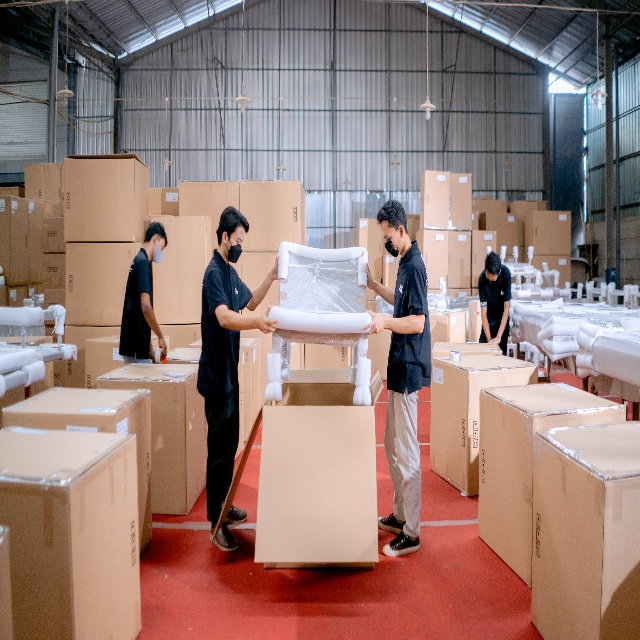Mascara: (384, 228, 402, 258), (224, 237, 242, 264), (152, 240, 162, 264), (485, 273, 499, 286)
Sin_guantes: (257, 304, 278, 334), (363, 309, 387, 335), (366, 262, 374, 289), (158, 336, 168, 356), (272, 254, 279, 280), (487, 335, 500, 346)
